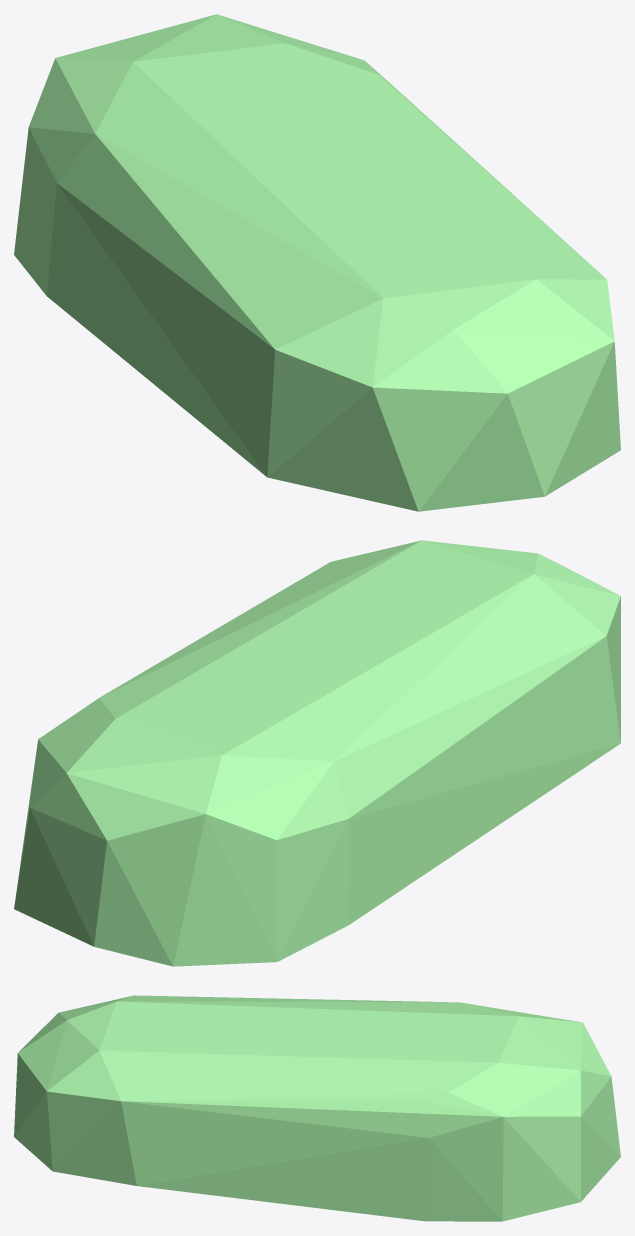
The model's file is linkhou_LR4_R560_link3_respondable_coll_6.dae.
3 views of the same model, one above another, from view 1: azimuth 30°, elevation 25°; view 2: azimuth 150°, elevation 25°; view 3: azimuth 270°, elevation 25° (orthographic). The views are drawn at different scales.
Parts seen in each view (by area): view 1: Node_00000209DB3AD520; view 2: Node_00000209DB3AD520; view 3: Node_00000209DB3AD520.
Boxes of the visible parts, left/top/right/bottom form: Node_00000209DB3AD520: left=14, top=14, right=620, bottom=511; Node_00000209DB3AD520: left=14, top=540, right=620, bottom=966; Node_00000209DB3AD520: left=14, top=995, right=620, bottom=1221.
Size of the model in its own units: 0.118 by 0.0582 by 0.2402.
